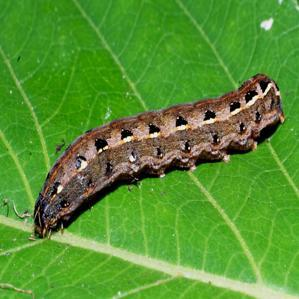Tobacco cutworm: (11, 39, 290, 256)
